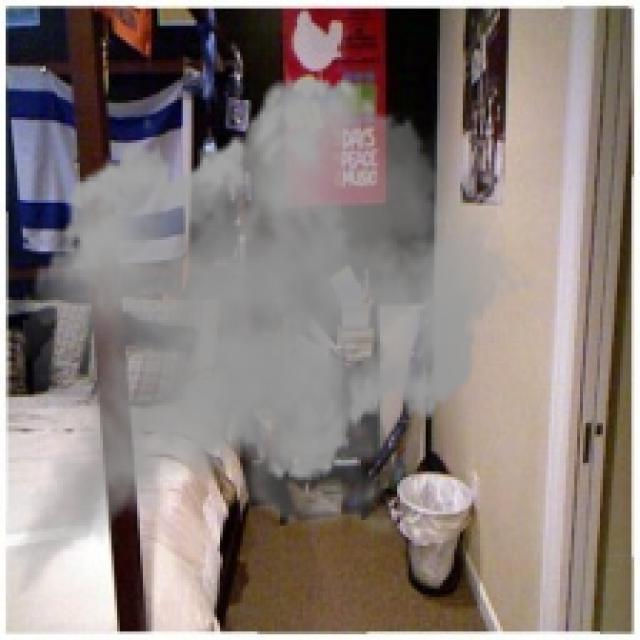Smoke: (2, 60, 534, 626)
